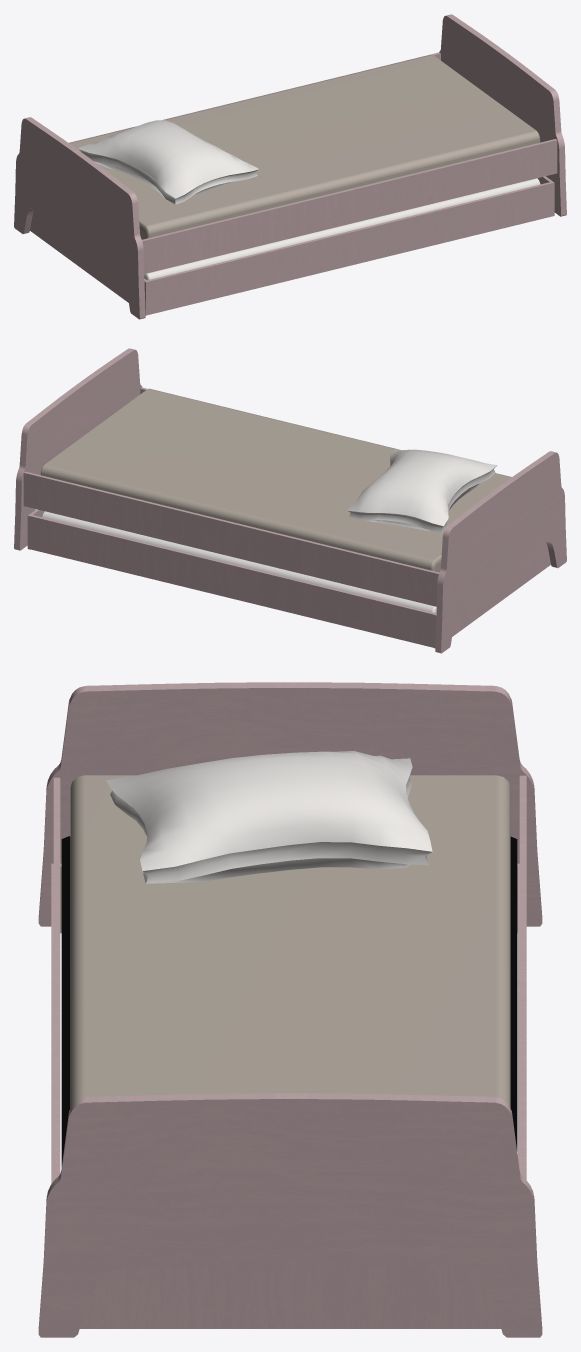
Rendered from vintage-bed-animation.gltf.
3 views of the same model, one above another, from view 1: azimuth 30°, elevation 25°; view 2: azimuth 150°, elevation 25°; view 3: azimuth 270°, elevation 25° (orthographic). The views are drawn at different scales.
Parts seen in each view (by area): view 1: bed-mattress, bed-structure, divan, pillow, divan-mattress; view 2: bed-mattress, bed-structure, divan, pillow, divan-mattress; view 3: bed-structure, bed-mattress, pillow, divan, bed-platform.
Part boxes in pixels (box(x1,y1,x2,y2)): bed-mattress: box(69, 54, 540, 239); bed-structure: box(14, 14, 566, 319); divan: box(30, 176, 554, 315); pillow: box(77, 120, 259, 204); divan-mattress: box(144, 178, 540, 280); bed-mattress: box(40, 388, 511, 572); bed-structure: box(14, 348, 566, 653); divan: box(27, 509, 550, 648); pillow: box(347, 449, 496, 532); divan-mattress: box(42, 511, 436, 612); bed-structure: box(38, 682, 542, 1337); bed-mattress: box(70, 775, 510, 1107); pillow: box(106, 751, 432, 883); divan: box(51, 863, 519, 1328); bed-platform: box(61, 836, 517, 1166).
Bounding box in the file's own units: 202 × 54.11 × 103.
Materials: 7 (2 with a texture image).
